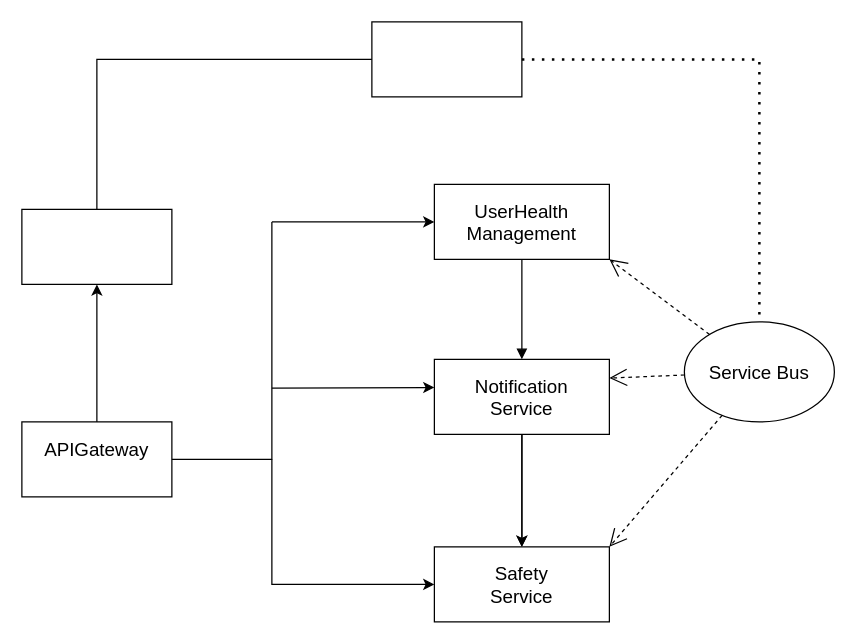
Some shapes in this 856 by 644 pixel diagram are drawn without their labels. Here are the shapes that lost their labels. From the top down, the centre of each, then its label:
At [446,59]: "Authentication".
At [96,246]: "Angular".
